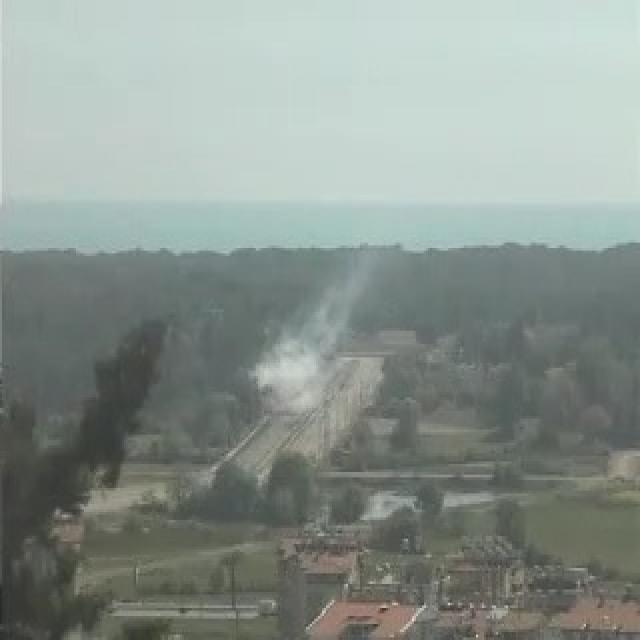smoke: (262, 269, 357, 406)
